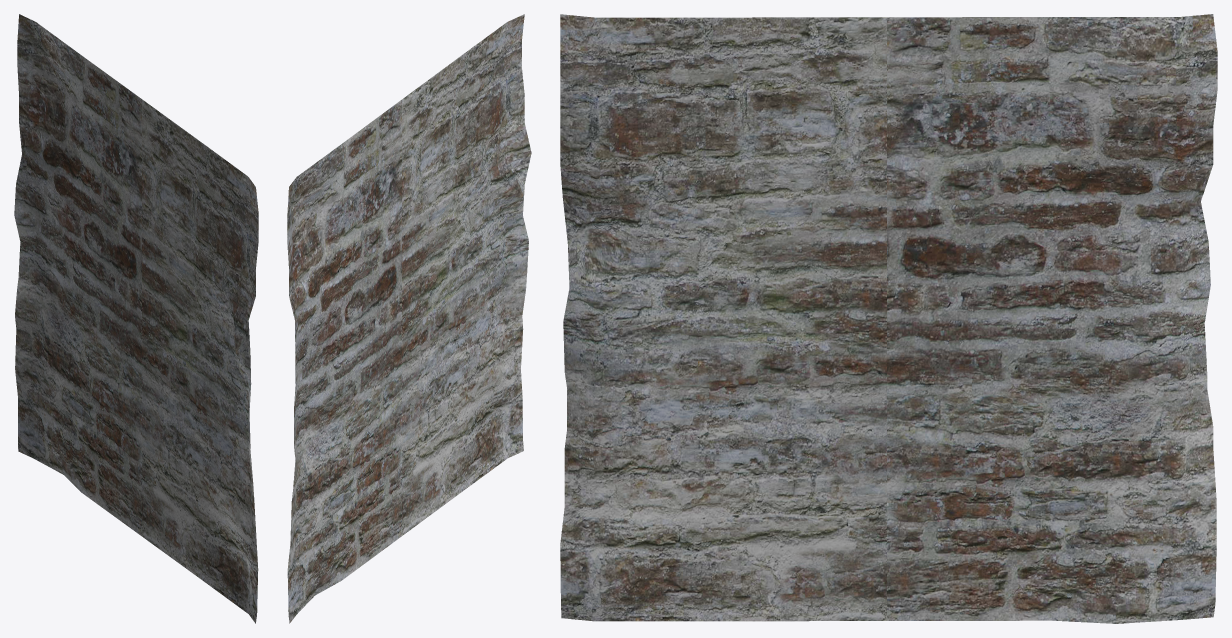
Rendered from 2Dwall_rightandleft.FBX.
3 views of the same model, side by side, from view 1: azimuth 30°, elevation 25°; view 2: azimuth 150°, elevation 25°; view 3: azimuth 270°, elevation 25° (orthographic). The views are drawn at different scales.
Visible parts, largest first — view 1: 2Dwall_rightandleft; view 2: 2Dwall_rightandleft; view 3: 2Dwall_rightandleft.
Boxes of the visible parts, x1,y1,x2,y2 form: 2Dwall_rightandleft: (14,14,258,623); 2Dwall_rightandleft: (287,14,531,623); 2Dwall_rightandleft: (560,14,1217,623).
Bounding box in the file's own units: 19.4 × 395 × 400.
